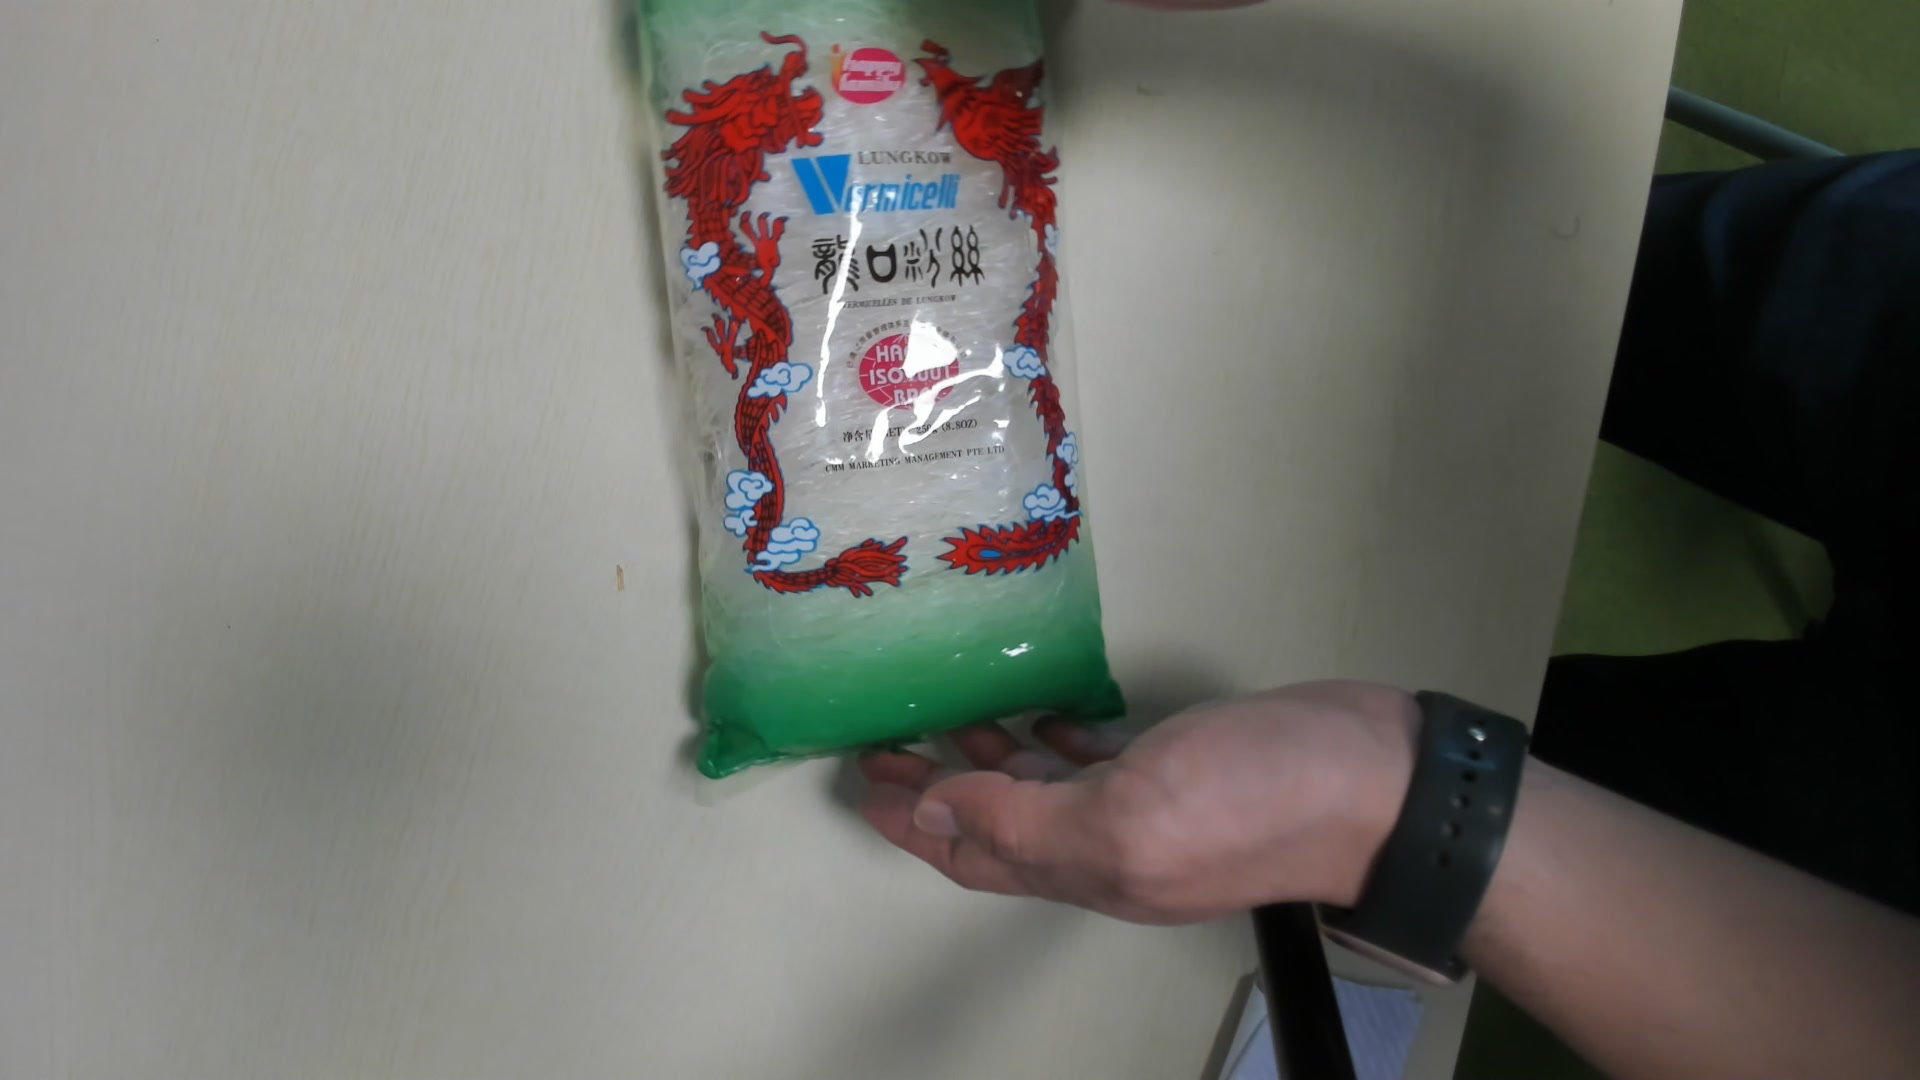BeeHoonVermicelli_200-299g_Halal_NonHealthy: (636, 7, 1137, 769)
